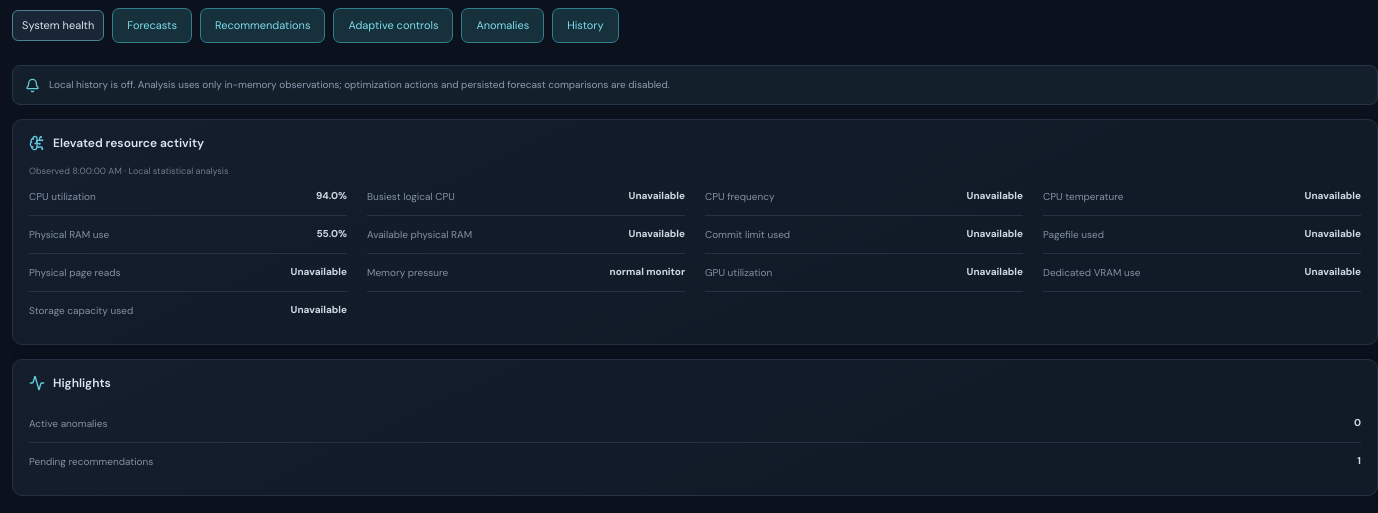
Resource Intelligence › does not offer adaptive actions without current monitoring and local history
This screenshot has width=1378, height=513.
Click the button "Recommendations" at (263, 25), box [200,8,325,42]
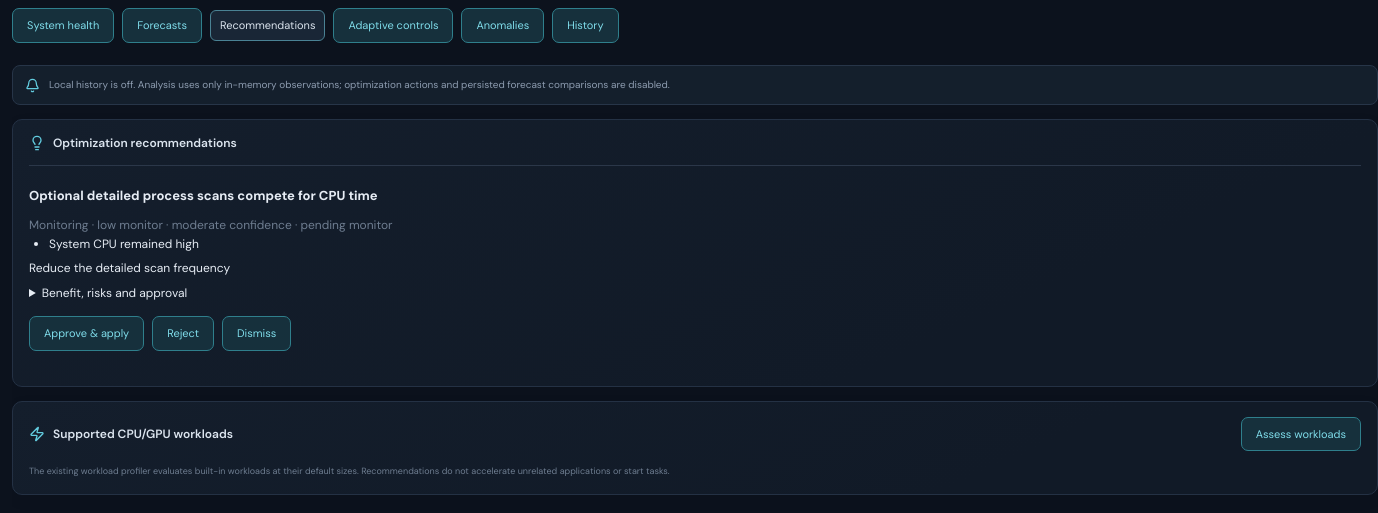
Expected: the text "Local history is off" is shown, [49,78,670,90]
Now the button "Approve & apply" is disabled, box [29,316,144,351]
